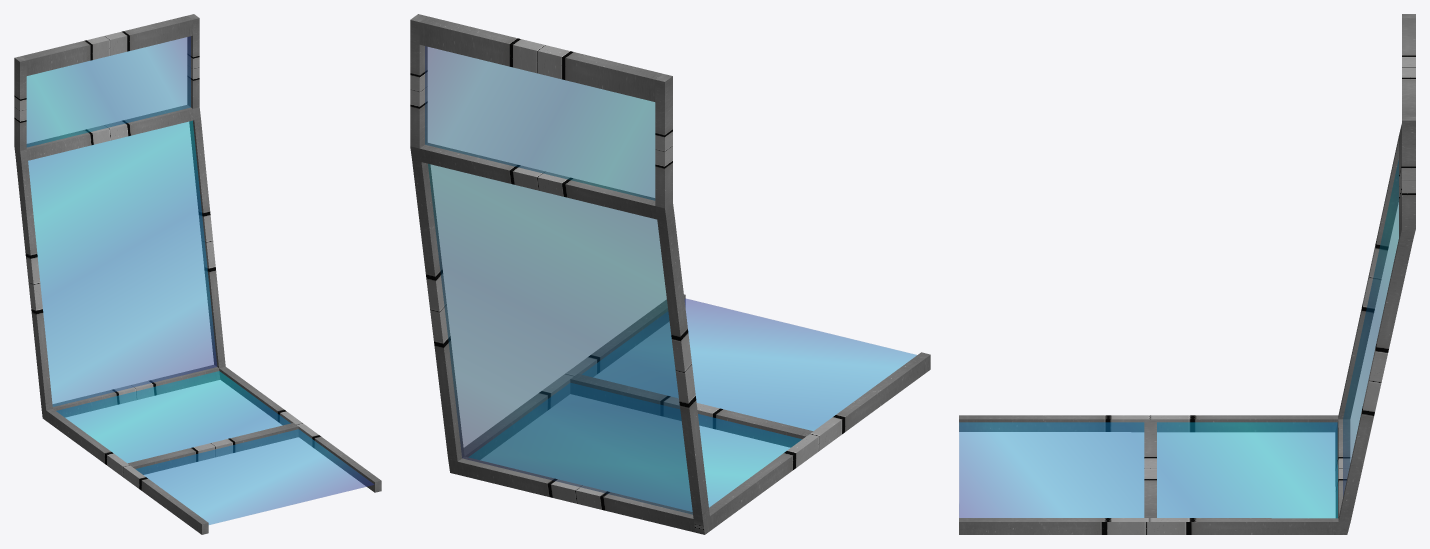
Rendered from Half_Dome_Center_02.FBX.
3 renders of one model, left to right at view 1: azimuth 30°, elevation 25°; view 2: azimuth 150°, elevation 25°; view 3: azimuth 270°, elevation 25°, orthographic. The views are drawn at different scales.
Parts seen in each view (by area): view 1: Half_Dome_Center_02; view 2: Half_Dome_Center_02; view 3: Half_Dome_Center_02.
Part boxes in pixels (left/top/right/bottom): Half_Dome_Center_02: left=14, top=14, right=381, bottom=534; Half_Dome_Center_02: left=410, top=14, right=930, bottom=534; Half_Dome_Center_02: left=959, top=14, right=1415, bottom=534.
Size of the model in its own units: 77.38 by 140 by 140.
